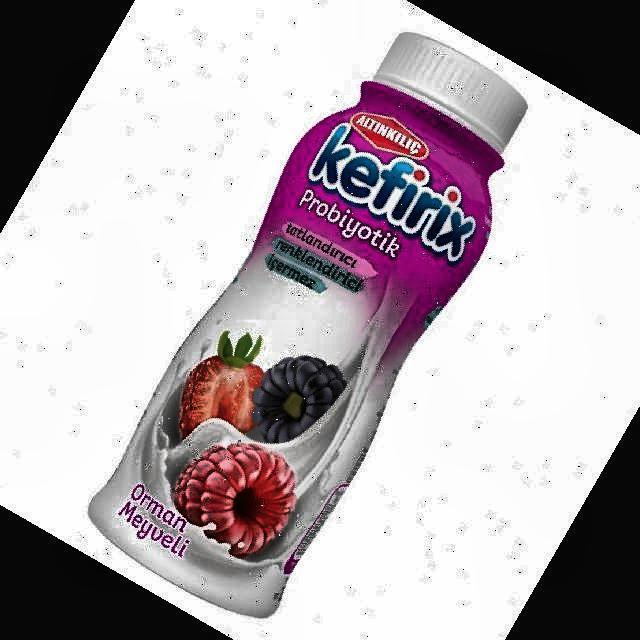plastic: (90, 35, 526, 616)
